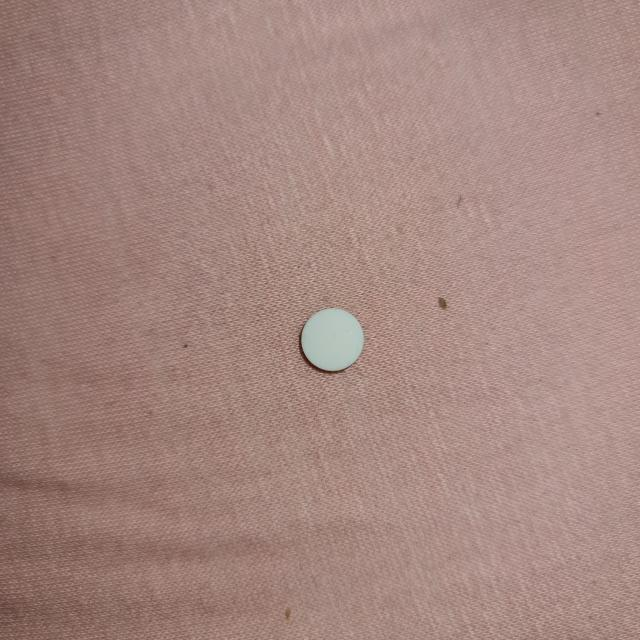pill: (298, 306, 366, 372)
